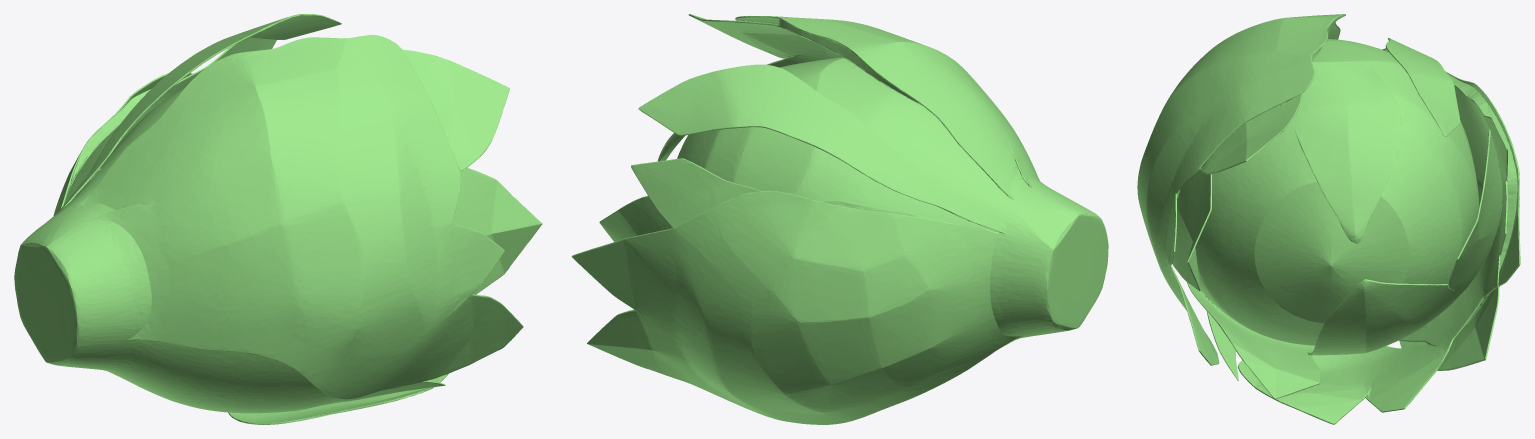
File: lettuce.dae
3 renders of one model, left to right at view 1: azimuth 30°, elevation 25°; view 2: azimuth 150°, elevation 25°; view 3: azimuth 270°, elevation 25°, orthographic. The views are drawn at different scales.
Visible parts, largest first — view 1: 5d2cc4604e3f43cd2a1e51c732785464; view 2: 5d2cc4604e3f43cd2a1e51c732785464; view 3: 5d2cc4604e3f43cd2a1e51c732785464.
Part boxes in pixels (left/top/right/bottom): 5d2cc4604e3f43cd2a1e51c732785464: left=14, top=14, right=542, bottom=424; 5d2cc4604e3f43cd2a1e51c732785464: left=571, top=14, right=1108, bottom=424; 5d2cc4604e3f43cd2a1e51c732785464: left=1137, top=14, right=1520, bottom=424.
Bounding box in the file's own units: 0.6938 × 0.5884 × 0.5617.
